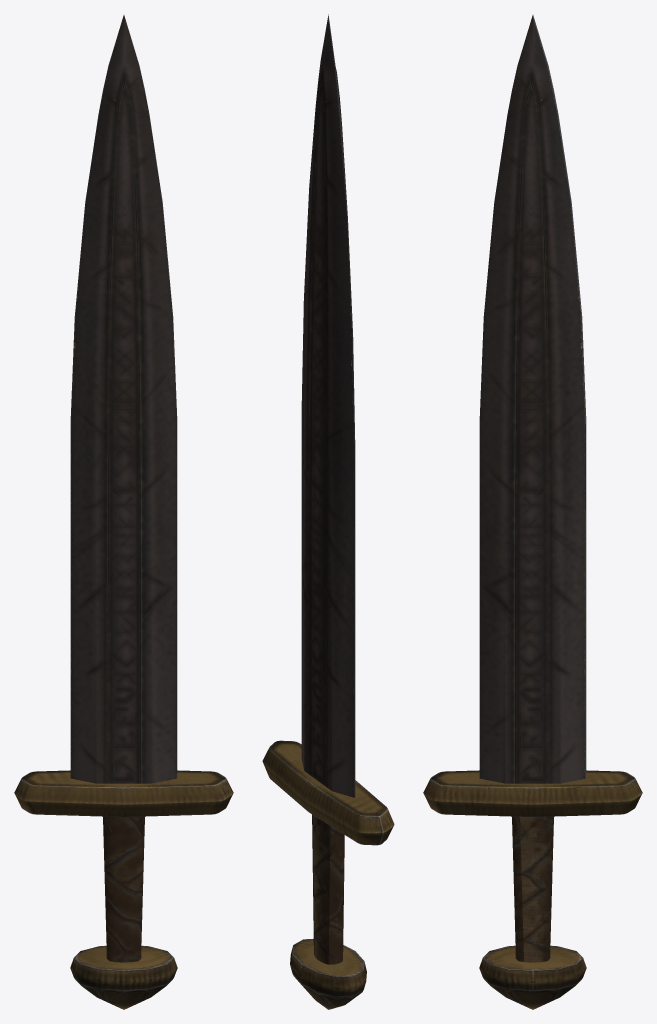
File: Sword9.fbx
3 views of the same model, side by side, from view 1: azimuth 90°, elevation 25°; view 2: azimuth 210°, elevation 25°; view 3: azimuth 270°, elevation 25° (orthographic).
Visible parts, largest first — view 1: pPlane12, pCylinder7, pCube5, pCylinder6; view 2: pPlane12, pCylinder7, pCube5, pCylinder6; view 3: pPlane12, pCylinder7, pCube5, pCylinder6.
Part boxes in pixels (x1,y1,x2,y2): pPlane12: [70, 15, 177, 783]; pCylinder7: [14, 770, 233, 816]; pCube5: [103, 816, 144, 962]; pCylinder6: [70, 945, 177, 1009]; pPlane12: [301, 14, 355, 797]; pCylinder7: [262, 740, 394, 845]; pCube5: [312, 814, 344, 964]; pCylinder6: [290, 938, 366, 1009]; pPlane12: [479, 15, 586, 783]; pCylinder7: [423, 770, 642, 816]; pCube5: [512, 816, 553, 962]; pCylinder6: [479, 945, 586, 1009].
Size of the model in its own units: 0.0512 by 0.8408 by 0.168.
Materials: 1 (1 with a texture image).
